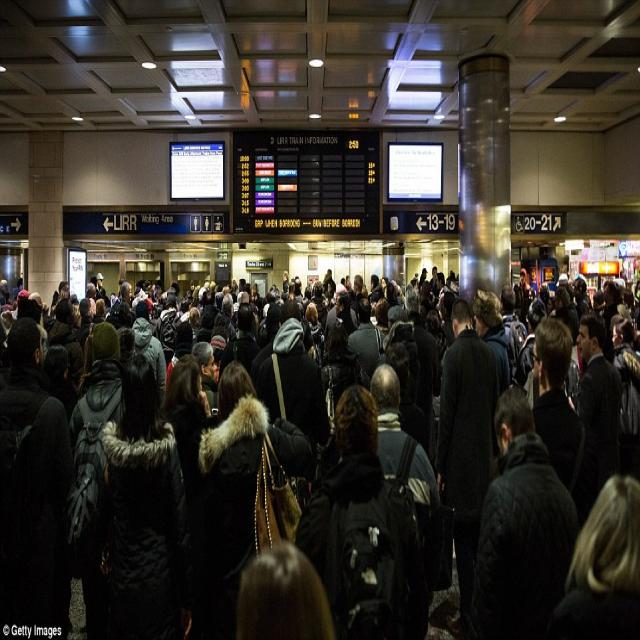body: (0, 262, 640, 348), (295, 380, 431, 639), (466, 376, 582, 638), (198, 358, 314, 610), (99, 348, 199, 639), (0, 314, 78, 638), (432, 285, 503, 639), (0, 393, 76, 639), (66, 320, 124, 640), (368, 362, 442, 608), (550, 471, 639, 640), (252, 299, 331, 458), (41, 341, 80, 636), (571, 311, 624, 522), (230, 537, 336, 640), (157, 352, 216, 498), (530, 314, 578, 488), (609, 312, 640, 477), (131, 296, 170, 419), (471, 286, 512, 400), (382, 304, 422, 405), (346, 293, 386, 392), (512, 294, 547, 386), (327, 288, 358, 371), (164, 319, 196, 396), (228, 301, 258, 378), (190, 340, 220, 416), (305, 301, 326, 368), (212, 290, 238, 340), (403, 286, 423, 327), (257, 302, 270, 338)
